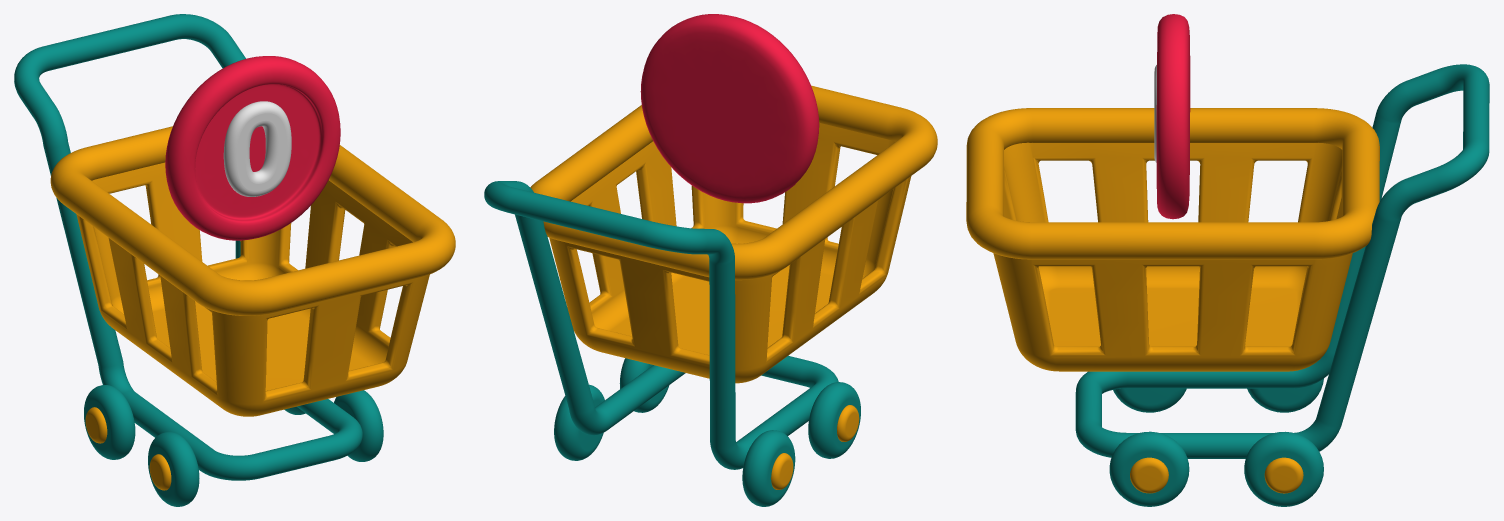
The model's file is empty-shopping-cart-3d-animated-icon-178692052792.glb.
The picture shows the model from 3 angles, left to right: view 1: azimuth 30°, elevation 25°; view 2: azimuth 150°, elevation 25°; view 3: azimuth 270°, elevation 25°; orthographic projection. The views are drawn at different scales.
Visible parts, largest first — view 1: basket, X SIGN, CART, tire_001, Text, tire_001.001; view 2: basket, X SIGN, CART, tire_001, tire_001.001; view 3: basket, CART, tire_001, X SIGN, tire_001.001.
Part boxes in pixels (bbox=[...]): basket: bbox=[50, 126, 455, 416]; X SIGN: bbox=[165, 56, 340, 240]; CART: bbox=[14, 14, 362, 480]; tire_001: bbox=[84, 385, 383, 506]; Text: bbox=[223, 101, 291, 196]; tire_001.001: bbox=[85, 407, 171, 490]; basket: bbox=[530, 85, 937, 383]; X SIGN: bbox=[640, 14, 819, 203]; CART: bbox=[484, 181, 838, 469]; tire_001: bbox=[554, 358, 860, 506]; tire_001.001: bbox=[771, 405, 859, 489]; basket: bbox=[966, 108, 1379, 371]; CART: bbox=[1075, 64, 1489, 458]; tire_001: bbox=[1109, 378, 1323, 506]; X SIGN: bbox=[1156, 14, 1190, 219]; tire_001.001: bbox=[1130, 457, 1303, 493].
Size of the model in its own units: 0.6108 by 0.9497 by 1.04.
